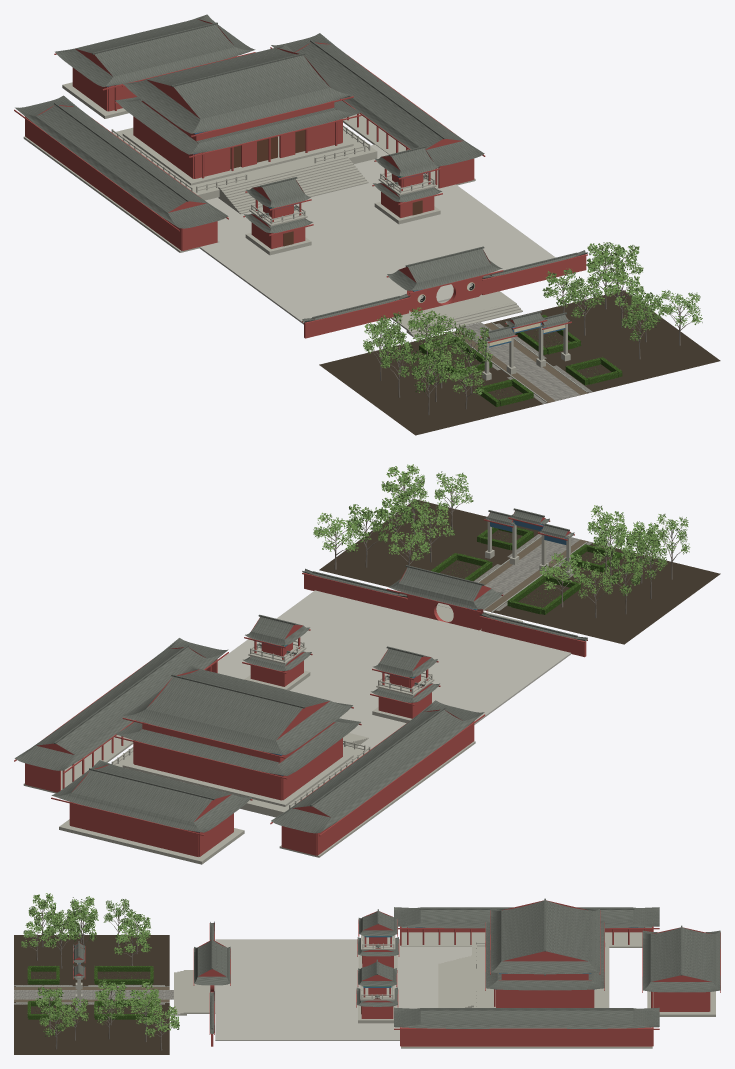
Rendered from zhengyi-forecourt.glb.
3 renders of one model, top to bottom at view 1: azimuth 30°, elevation 25°; view 2: azimuth 150°, elevation 25°; view 3: azimuth 270°, elevation 25°, orthographic. The views are drawn at different scales.
Parts seen in each view (by area): view 1: main courtyard paving, ZFC estimated planting ground, side gallery roof upper gable slopes, Zhengyi central double-eave hall upper roof upper gable slop, side gallery roof flared skirt, rear hall observed footprint lower roof upper gable slopes, Zhengyi central double-eave hall upper roof flared skirt, Zhengyi central double-eave hall lower roof flared skirt, main hall access stair, front red boundary wall, side gallery outer wall, ZFC hedge core (+33 smaller); view 2: main courtyard paving, ZFC estimated planting ground, side gallery roof upper gable slopes, Zhengyi central double-eave hall upper roof upper gable slop, side gallery roof flared skirt, rear hall observed footprint lower roof upper gable slopes, Zhengyi central double-eave hall upper roof flared skirt, Zhengyi central double-eave hall back wall, Zhengyi central double-eave hall lower roof flared skirt, rear hall observed footprint back wall, side gallery outer wall, front red boundary wall (+35 smaller); view 3: main courtyard paving, ZFC estimated planting ground, side gallery roof upper gable slopes, side gallery outer wall, Zhengyi central double-eave hall upper roof upper gable slop, side gallery roof flared skirt, rear hall observed footprint lower roof upper gable slopes, Zhengyi central double-eave hall upper roof flared skirt, side gallery floor, ZFC hedge core, Zhengyi central double-eave hall lower roof flared skirt, Zhengyi central double-eave hall side wall (+45 smaller).
Boxes of the visible parts, bbox=[...] form: main courtyard paving: bbox=[199, 144, 555, 324]; ZFC estimated planting ground: bbox=[319, 290, 720, 435]; side gallery roof upper gable slopes: bbox=[36, 42, 462, 212]; Zhengyi central double-eave hall upper roof upper gable slop: bbox=[146, 47, 329, 119]; side gallery roof flared skirt: bbox=[15, 33, 484, 228]; rear hall observed footprint lower roof upper gable slopes: bbox=[75, 18, 234, 76]; Zhengyi central double-eave hall upper roof flared skirt: bbox=[123, 44, 353, 133]; Zhengyi central double-eave hall lower roof flared skirt: bbox=[115, 97, 360, 154]; main hall access stair: bbox=[218, 155, 368, 214]; front red boundary wall: bbox=[304, 254, 586, 338]; side gallery outer wall: bbox=[25, 116, 474, 250]; ZFC hedge core: bbox=[419, 315, 622, 406]; main courtyard paving: bbox=[217, 590, 571, 749]; ZFC estimated planting ground: bbox=[319, 500, 720, 644]; side gallery roof upper gable slopes: bbox=[36, 647, 462, 817]; Zhengyi central double-eave hall upper roof upper gable slop: bbox=[146, 669, 330, 740]; side gallery roof flared skirt: bbox=[14, 638, 484, 833]; rear hall observed footprint lower roof upper gable slopes: bbox=[72, 764, 231, 822]; Zhengyi central double-eave hall upper roof flared skirt: bbox=[123, 665, 352, 755]; Zhengyi central double-eave hall back wall: bbox=[134, 740, 282, 800]; Zhengyi central double-eave hall lower roof flared skirt: bbox=[115, 718, 360, 775]; rear hall observed footprint back wall: bbox=[70, 802, 198, 856]; side gallery outer wall: bbox=[25, 721, 474, 855]; front red boundary wall: bbox=[304, 573, 586, 657]; main courtyard paving: bbox=[215, 939, 471, 1040]; ZFC estimated planting ground: bbox=[14, 935, 169, 1054]; side gallery roof upper gable slopes: bbox=[420, 907, 632, 1023]; side gallery outer wall: bbox=[401, 929, 652, 1046]; Zhengyi central double-eave hall upper roof upper gable slop: bbox=[501, 900, 588, 961]; side gallery roof flared skirt: bbox=[394, 907, 659, 1028]; rear hall observed footprint lower roof upper gable slopes: bbox=[650, 927, 712, 981]; Zhengyi central double-eave hall upper roof flared skirt: bbox=[490, 908, 599, 974]; side gallery floor: bbox=[401, 932, 652, 1048]; ZFC hedge core: bbox=[27, 966, 153, 1019]; Zhengyi central double-eave hall lower roof flared skirt: bbox=[485, 920, 604, 990]; Zhengyi central double-eave hall side wall: bbox=[497, 989, 593, 1007].
Size of the model in its own units: 63.85 by 16.97 by 154.
Materials: 18 (5 with a texture image).
